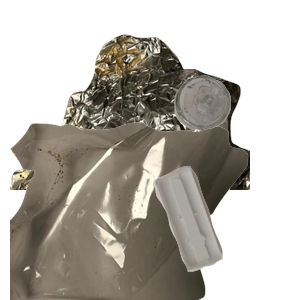glass: (172, 73, 300, 195)
metal: (10, 32, 250, 212)
plastic: (150, 163, 300, 300)
trash: (10, 120, 250, 300)
